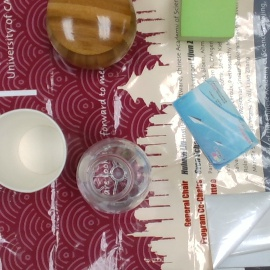bottle: (76, 138, 153, 215)
card: (175, 77, 258, 173)
chess: (45, 1, 137, 71)
cup: (2, 108, 67, 194)
